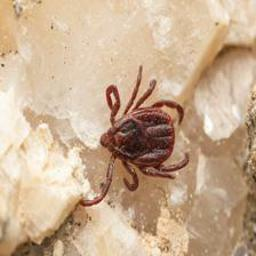Rhipicephalus sanguineus: (78, 65, 188, 207)
